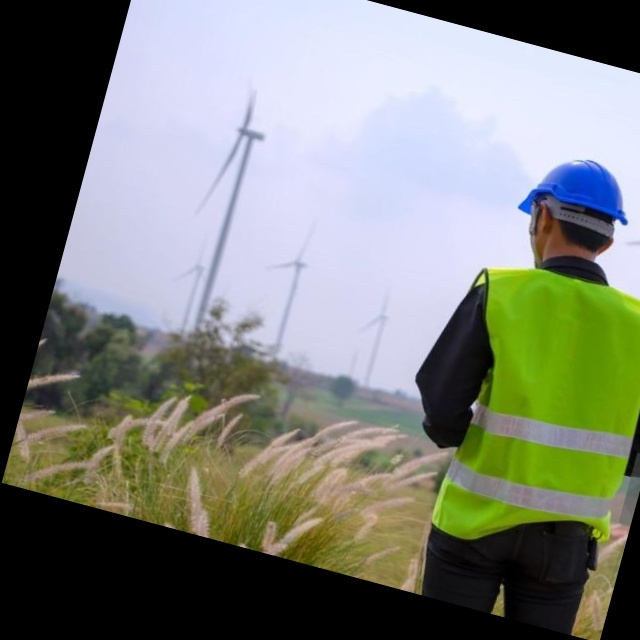Con_Casco: (508, 143, 640, 269)
Con_Chaleco: (420, 254, 640, 549)
